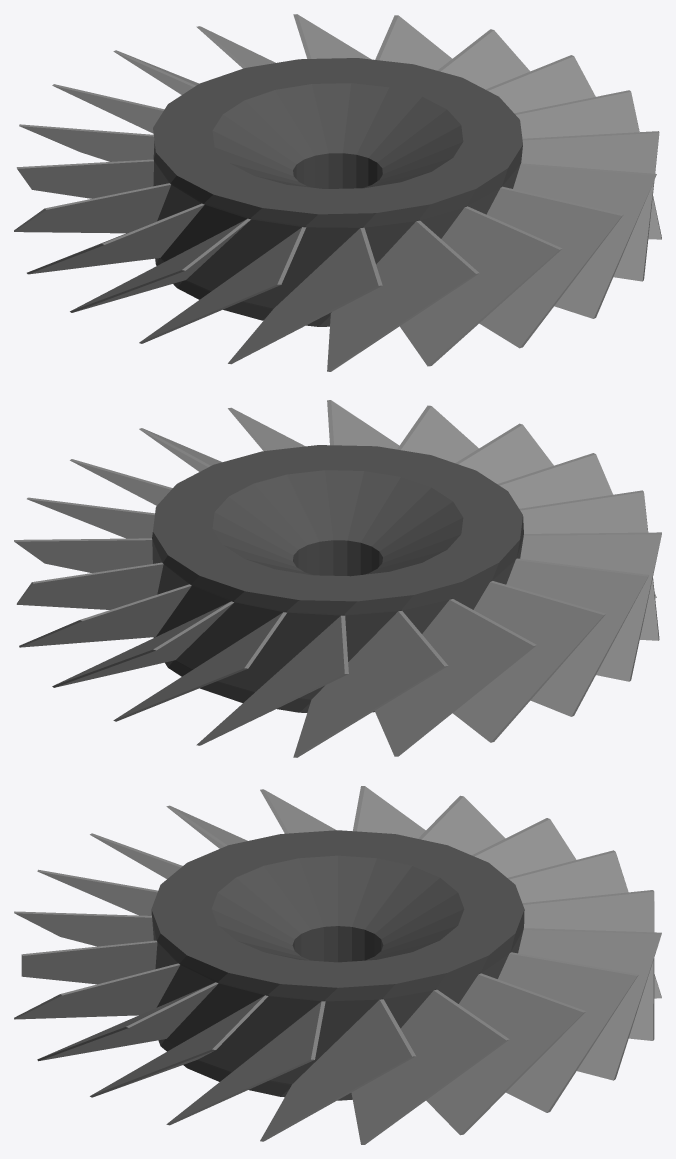
File: SM_Int_Turbine.fbx
3 views of the same model, one above another, from view 1: azimuth 30°, elevation 25°; view 2: azimuth 150°, elevation 25°; view 3: azimuth 270°, elevation 25° (orthographic).
Parts seen in each view (by area): view 1: SM_Int_Turbine; view 2: SM_Int_Turbine; view 3: SM_Int_Turbine.
Part boxes in pixels (x1,y1,x2,y2): SM_Int_Turbine: [14, 14, 661, 371]; SM_Int_Turbine: [14, 400, 661, 757]; SM_Int_Turbine: [14, 786, 661, 1144].
Size of the model in its own units: 0.5001 by 0.0961 by 0.5001.
2 materials, 2 textured.
